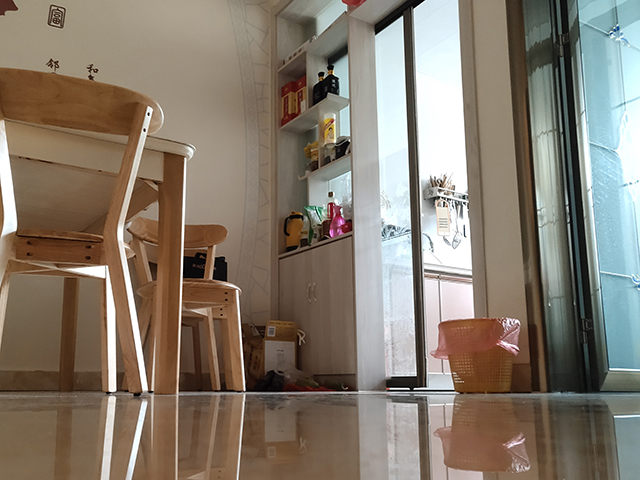cabinet: (267, 224, 383, 392), (421, 262, 475, 393)
stool: (1, 66, 167, 397), (125, 213, 247, 395)
table: (1, 118, 198, 397)
trashcan: (437, 316, 521, 395)
